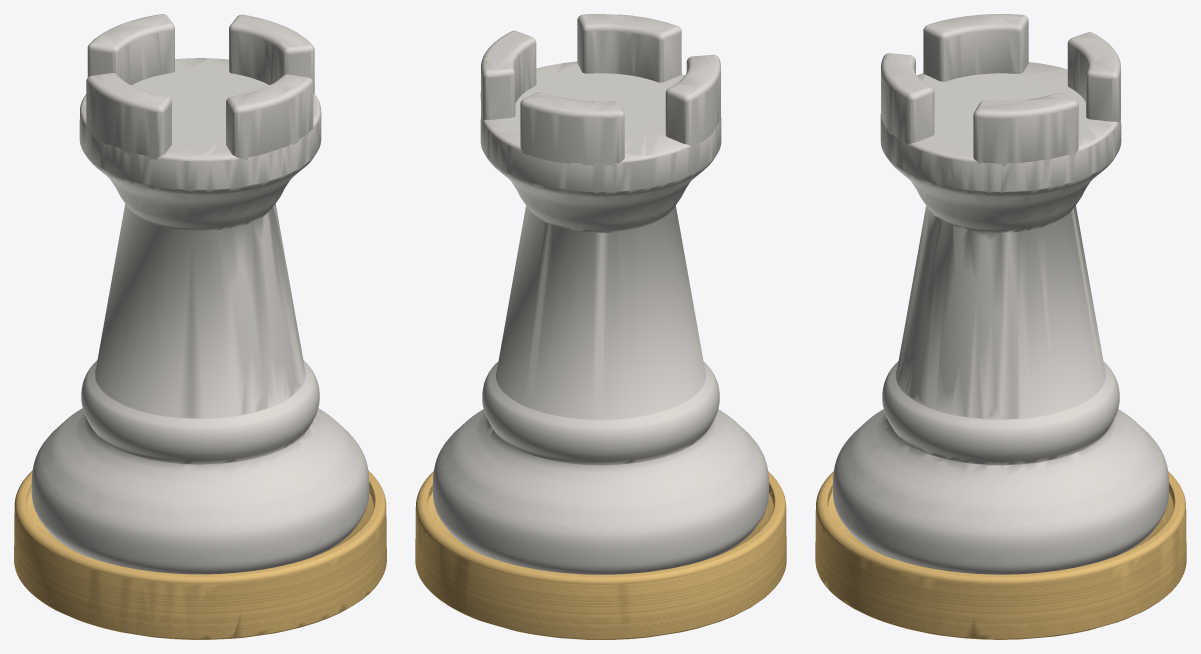
The model's file is rook-white-hd.glb.
3 renders of one model, left to right at view 1: azimuth 30°, elevation 25°; view 2: azimuth 150°, elevation 25°; view 3: azimuth 270°, elevation 25°, orthographic.
Parts seen in each view (by area): view 1: Aurum Ivoire – Rook; view 2: Aurum Ivoire – Rook; view 3: Aurum Ivoire – Rook.
Part boxes in pixels (x1,y1,x2,y2): Aurum Ivoire – Rook: (14, 14, 386, 639); Aurum Ivoire – Rook: (415, 14, 786, 639); Aurum Ivoire – Rook: (815, 14, 1186, 639).
Bounding box in the file's own units: 0.7142 × 1.06 × 0.7142.
2 materials, 1 textured.
